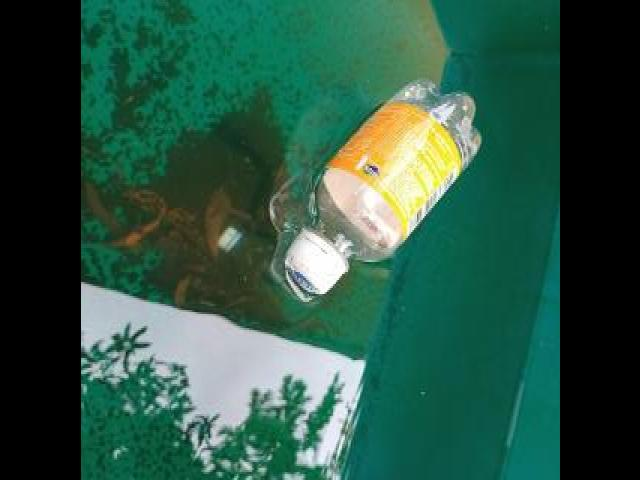Bottle: (280, 65, 490, 309)
